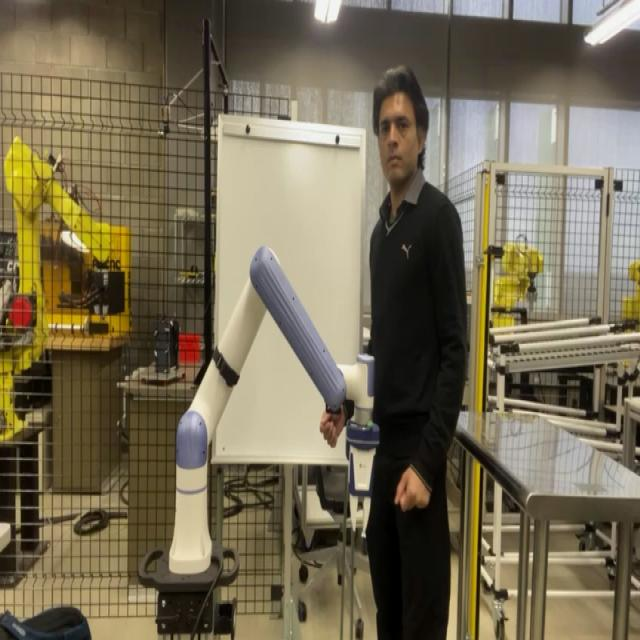robot: (137, 243, 375, 637)
